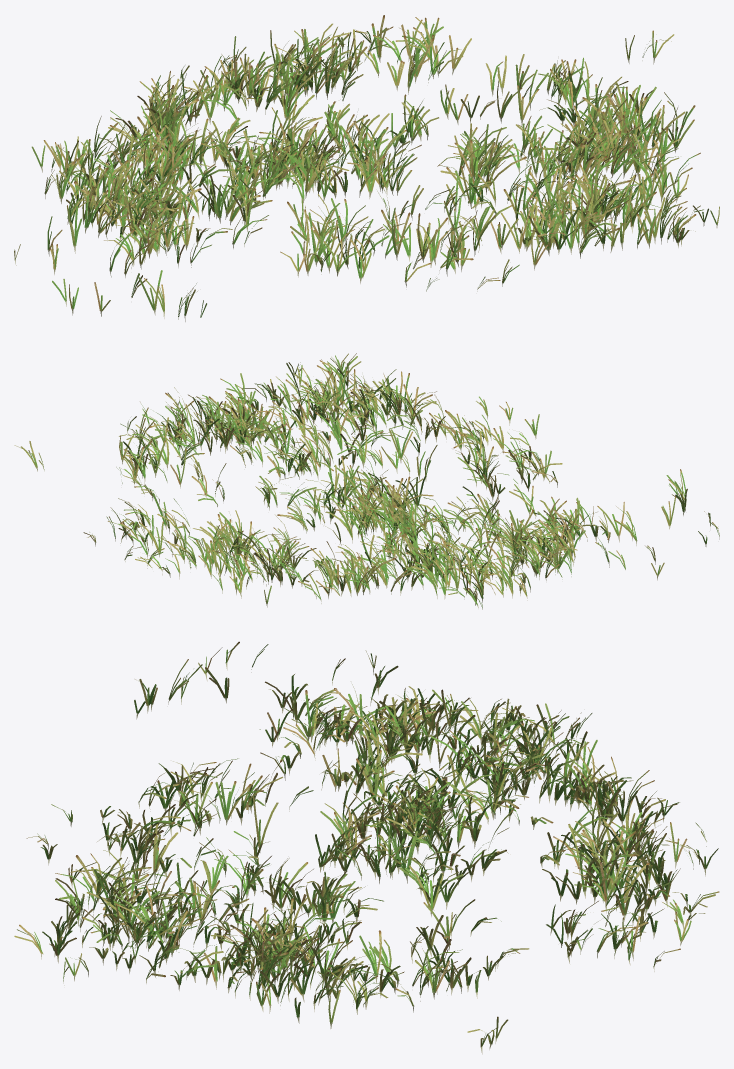
File: Seagrass_Patch_A.gltf
3 views of the same model, one above another, from view 1: azimuth 30°, elevation 25°; view 2: azimuth 150°, elevation 25°; view 3: azimuth 270°, elevation 25° (orthographic). The views are drawn at different scales.
Parts seen in each view (by area): view 1: Seagrass_Patch_A; view 2: Seagrass_Patch_A; view 3: Seagrass_Patch_A.
Part boxes in pixels (x1,y1,x2,y2): Seagrass_Patch_A: (14, 15, 719, 321); Seagrass_Patch_A: (14, 353, 719, 609); Seagrass_Patch_A: (14, 641, 719, 1054).
Size of the model in its own units: 4.18 by 0.32 by 3.14.
Materials: 1 (1 with a texture image).
